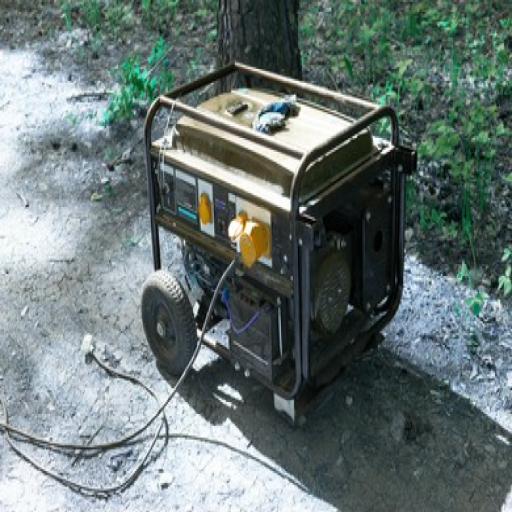portable_generator: (141, 60, 418, 428)
